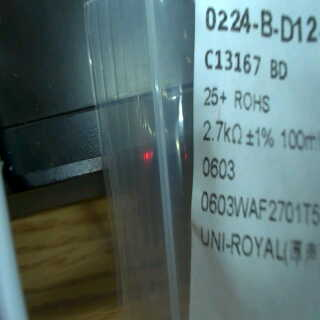2.7kR: (200, 118, 247, 148)
